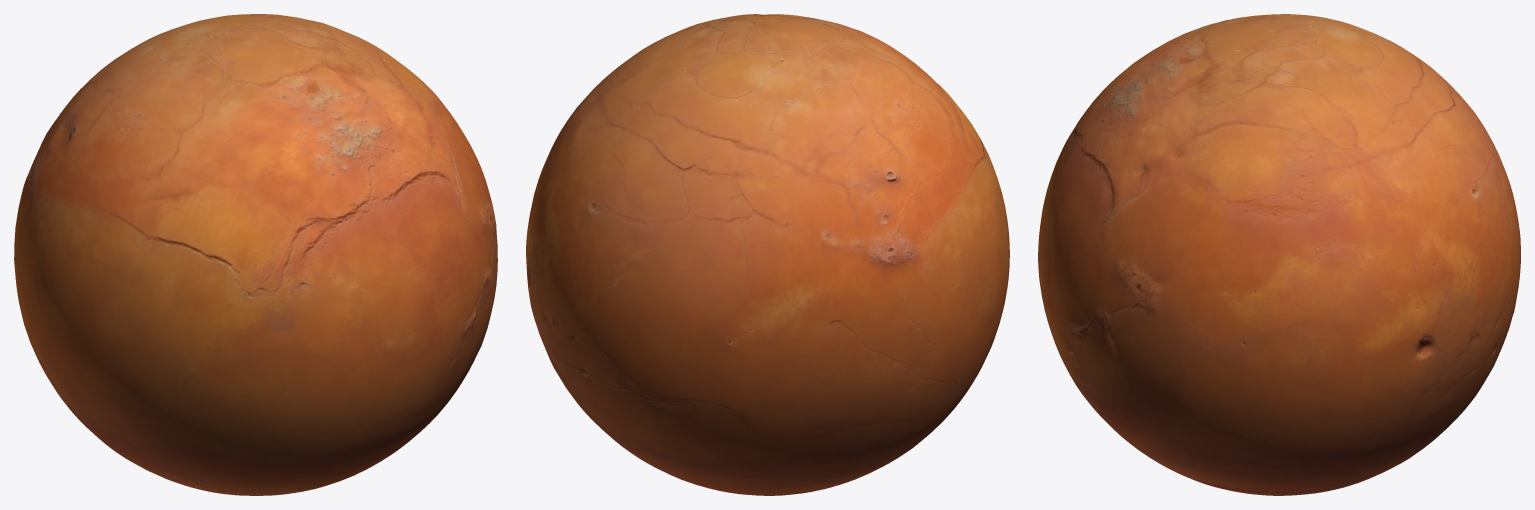
The model's file is desert_planet_4.glb.
3 views of the same model, side by side, from view 1: azimuth 30°, elevation 25°; view 2: azimuth 150°, elevation 25°; view 3: azimuth 270°, elevation 25° (orthographic).
Parts seen in each view (by area): view 1: Mesh_0.011; view 2: Mesh_0.011; view 3: Mesh_0.011.
Part boxes in pixels (bbox=[...]): Mesh_0.011: bbox=[14, 14, 497, 495]; Mesh_0.011: bbox=[526, 14, 1009, 495]; Mesh_0.011: bbox=[1038, 14, 1520, 495].
Size of the model in its own units: 2 by 2 by 2.
1 material, 1 textured.
